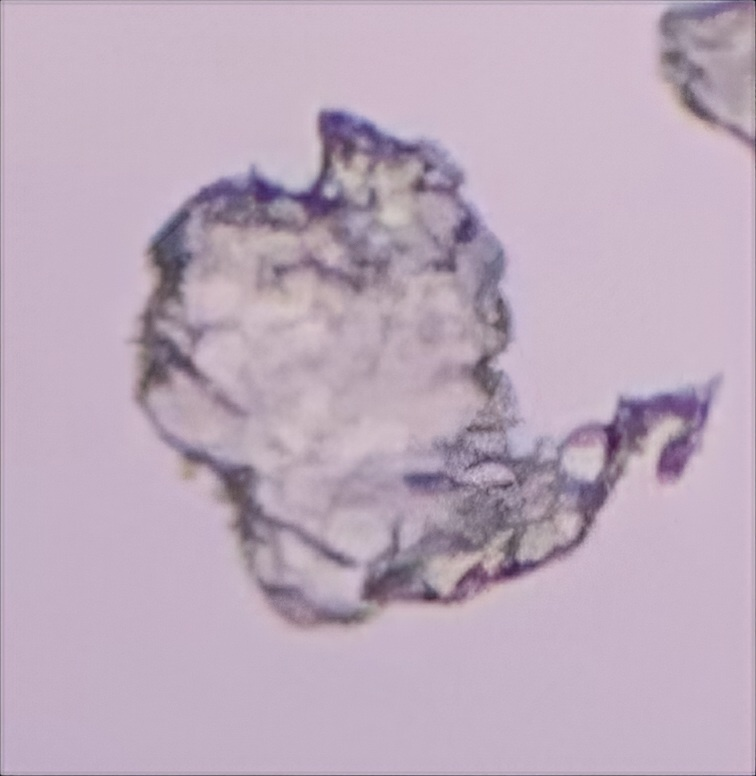microplastic: (121, 107, 727, 635), (659, 1, 756, 157)
